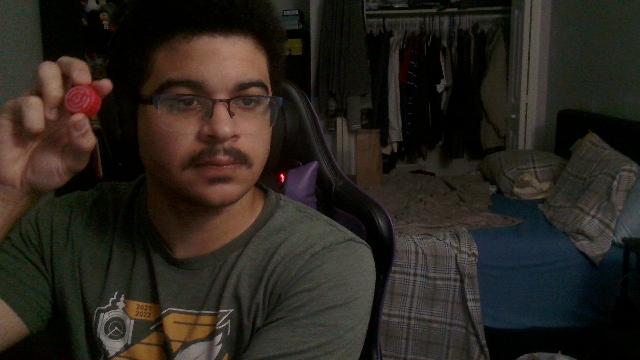cap: (65, 84, 102, 118)
